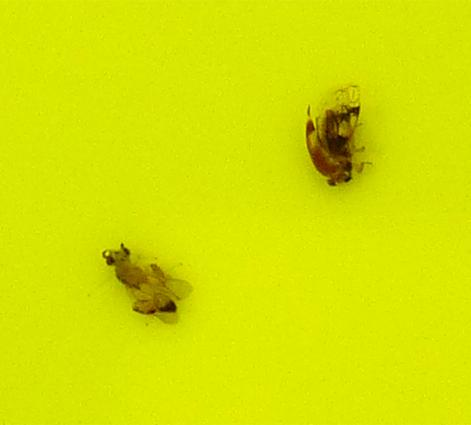Hemiptera: (303, 100, 371, 189)
Hymenoptera: (100, 241, 186, 325)
